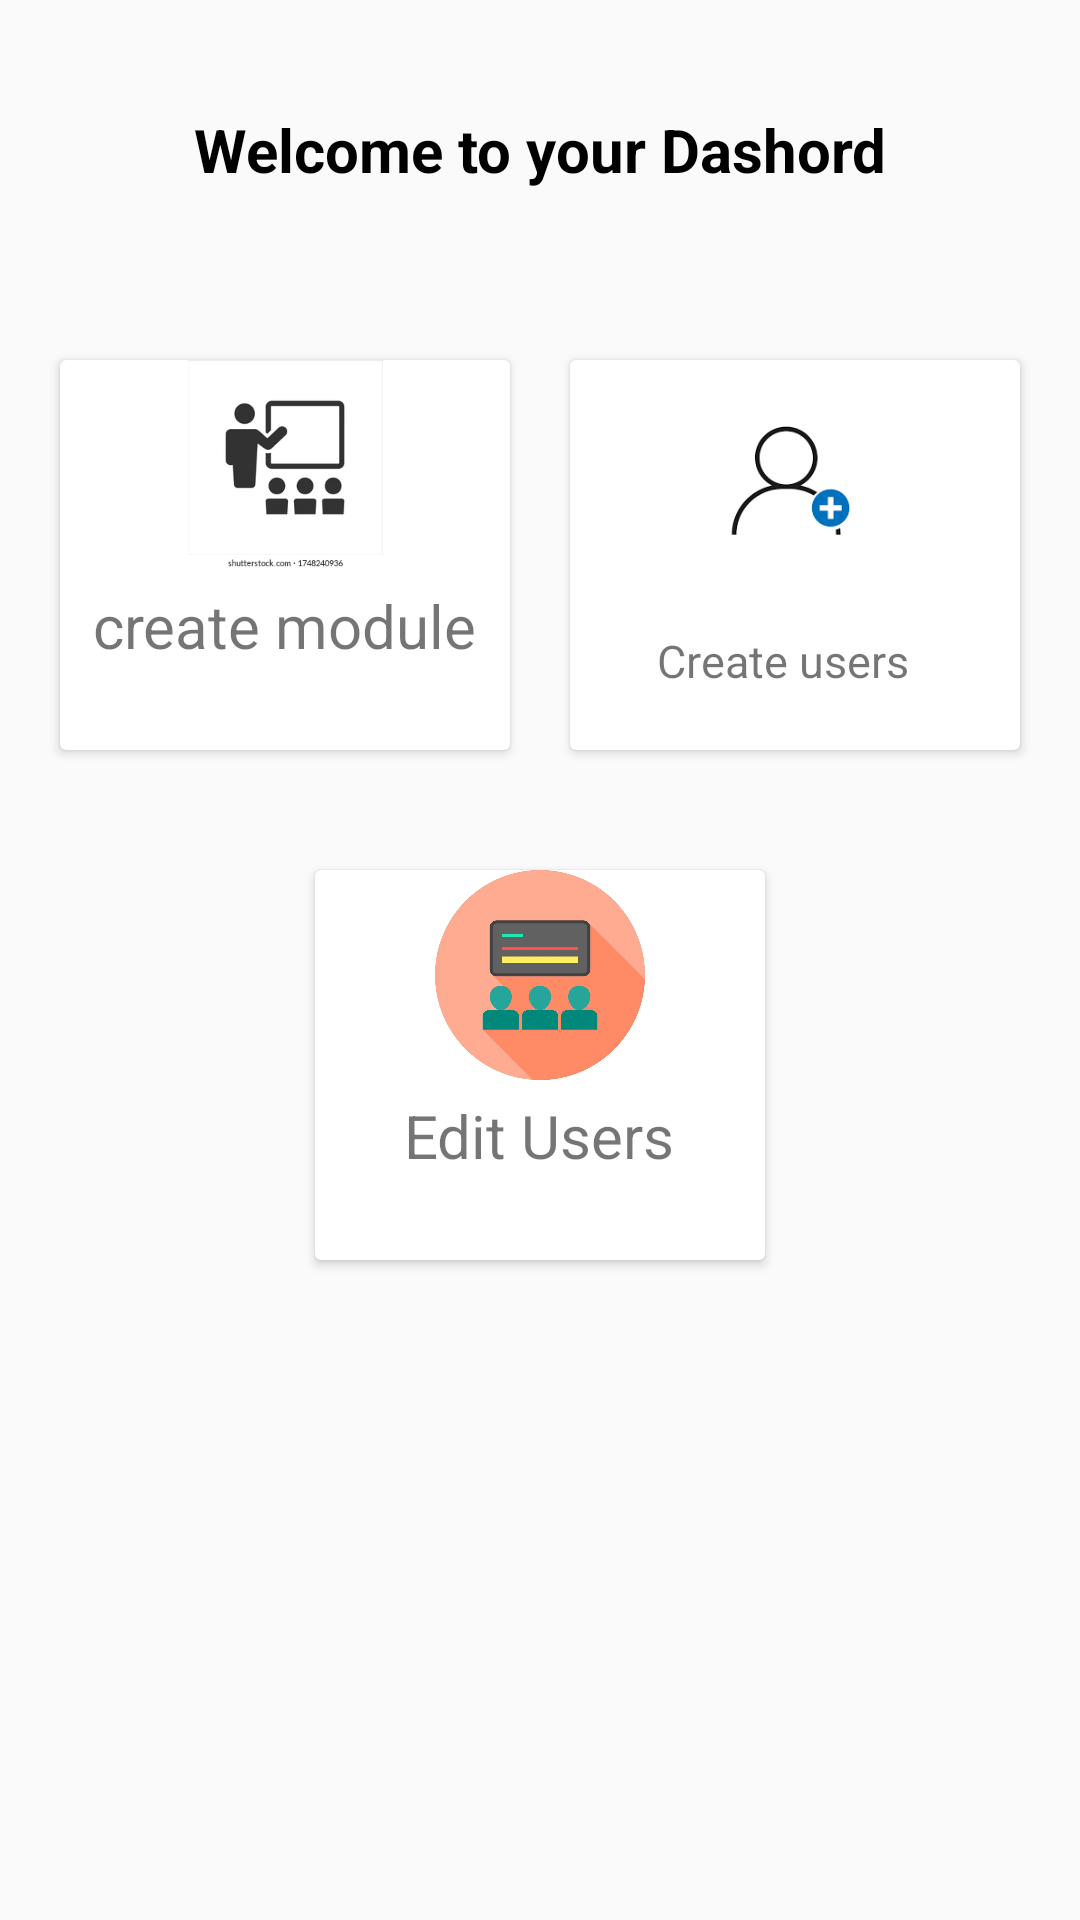

Icon click points for this 1080px×1920px phone screenshot, format [x,y]:
aclass: [304,463]
classes: [540,975]
